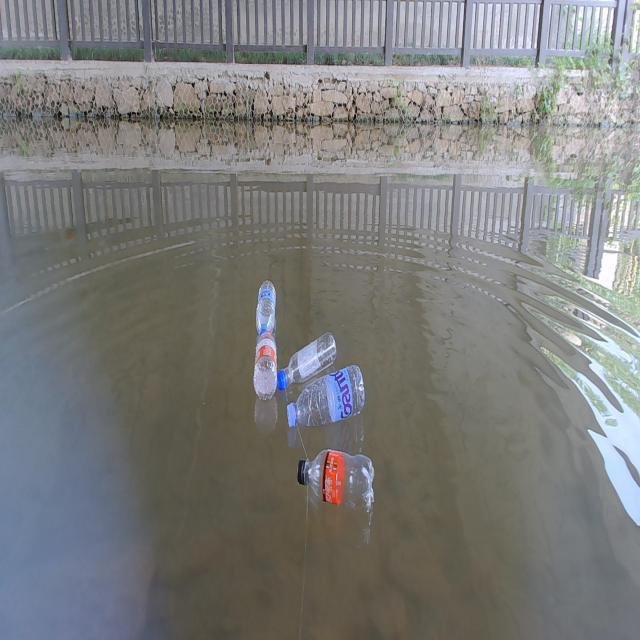bottle: (292, 444, 380, 520), (284, 363, 372, 430), (276, 324, 340, 392), (245, 330, 282, 404), (250, 277, 282, 338)
